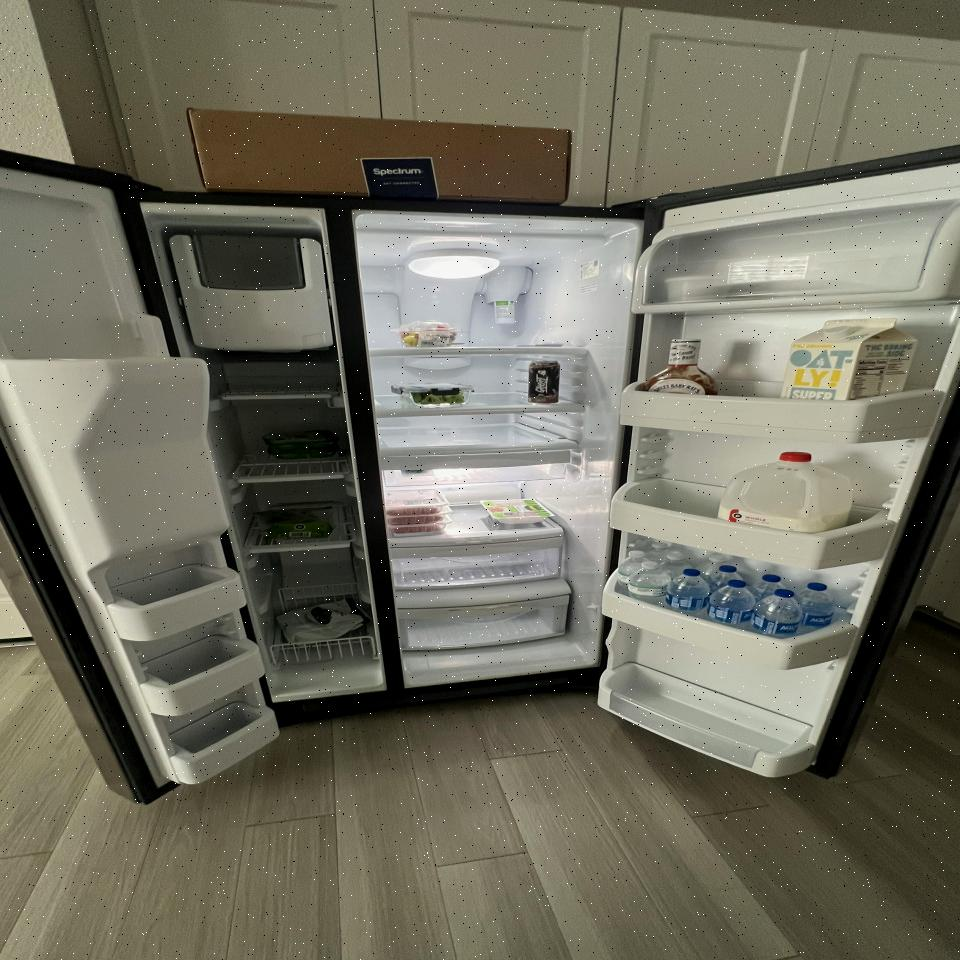Leche: (717, 452, 855, 534)
Tomate: (392, 320, 462, 348)
